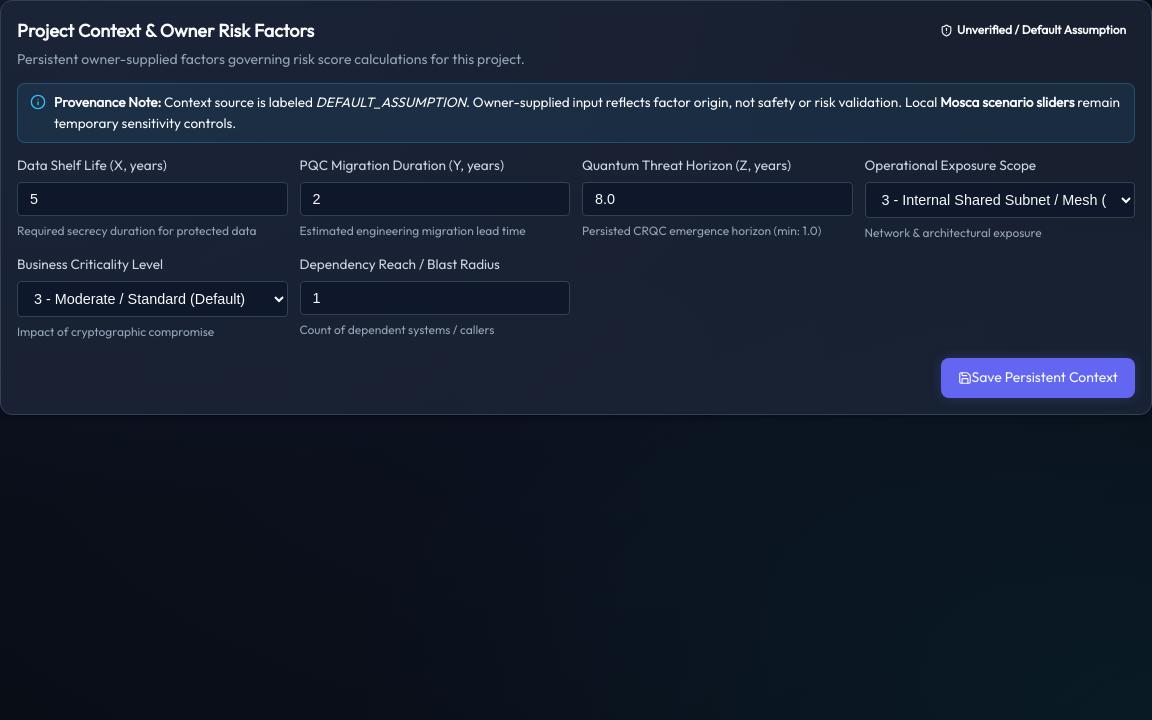
ContextEditor Component › displays error banner when numerical validation fails (out of range)
Replace the text in the number field with test id "input-shelf-life" with "-5": (152, 199) 17,182 -> 288,216
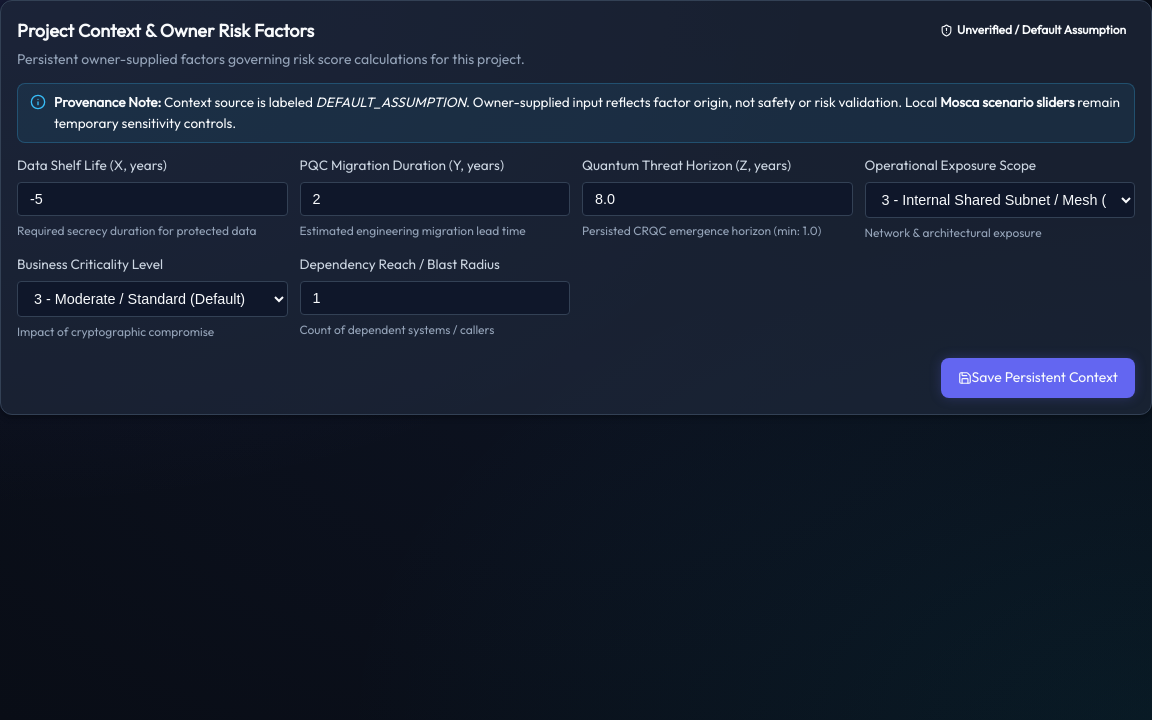
Submit the form with test id "context-editor-form", box 17,155 -> 1135,398
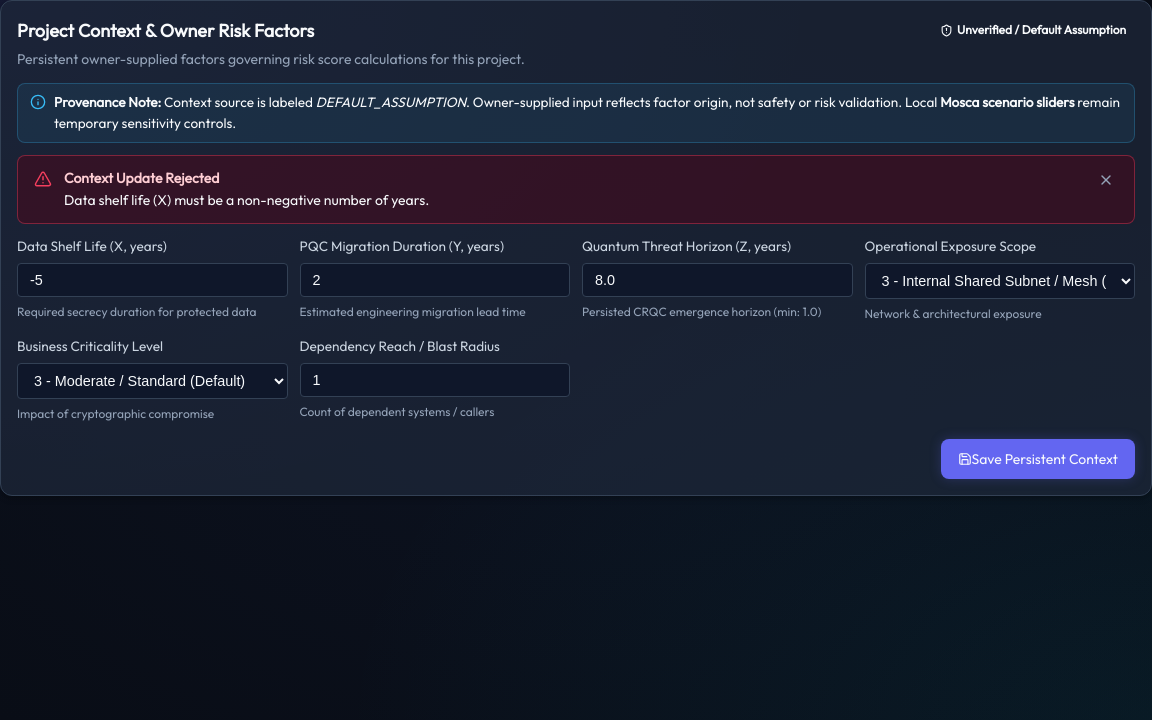
Expected: the text "Data shelf life (X) must be a non-negative number of years." is shown, 64,191 -> 429,209
